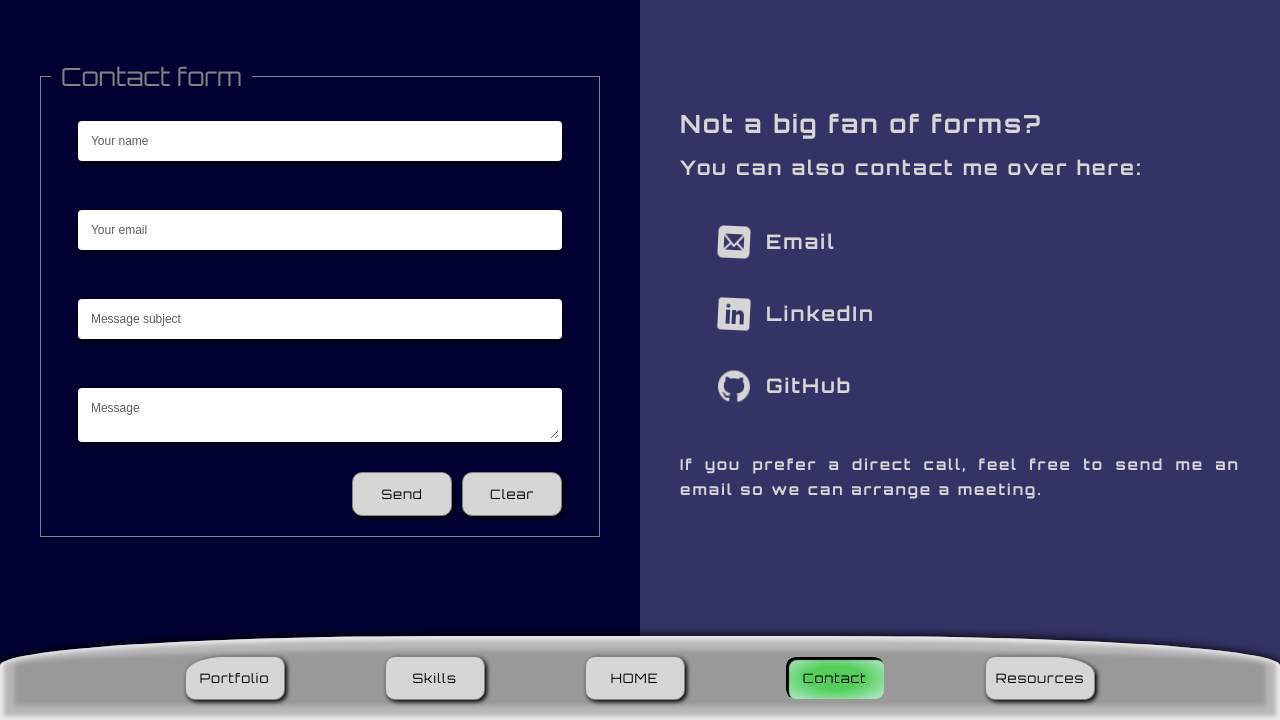
Test: Contact page › can send a contact form
Type "Joaquín" into the field with test id "contact-name-input" at (320, 141), box [78,121,562,161]
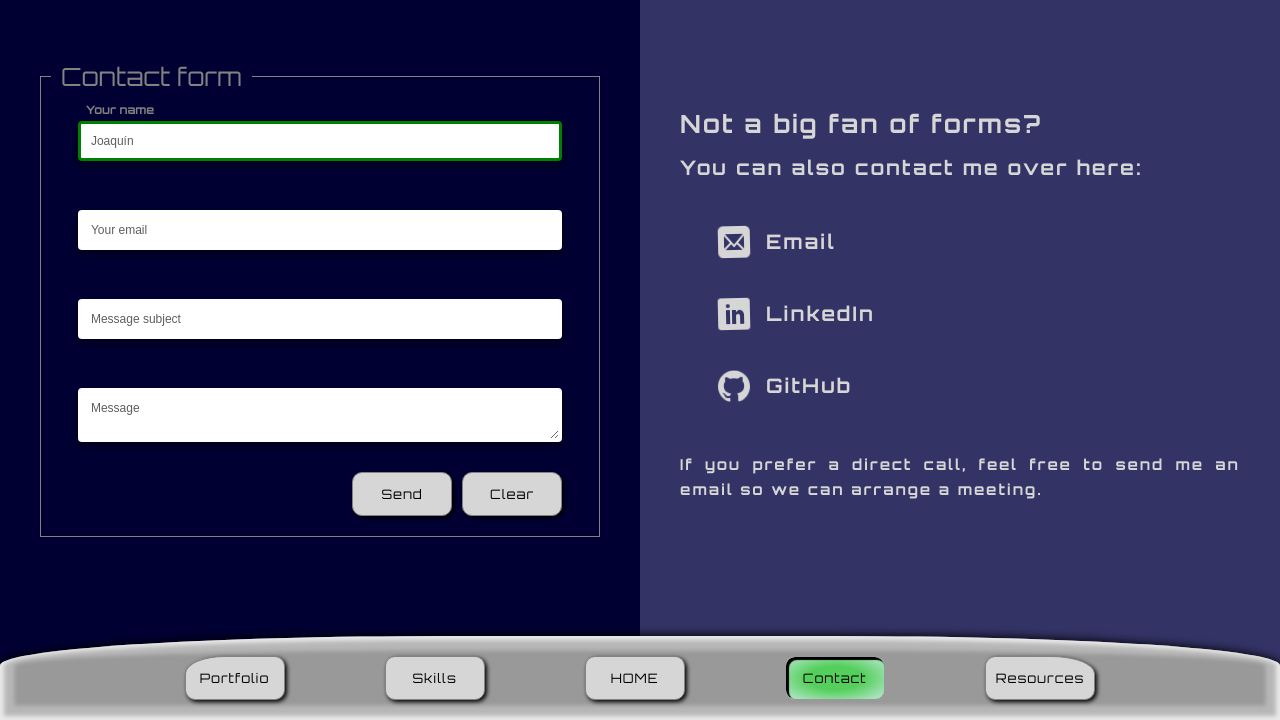
Type "test-email@test.com" into the field with test id "contact-email-input" at (320, 230), box [78,210,562,250]
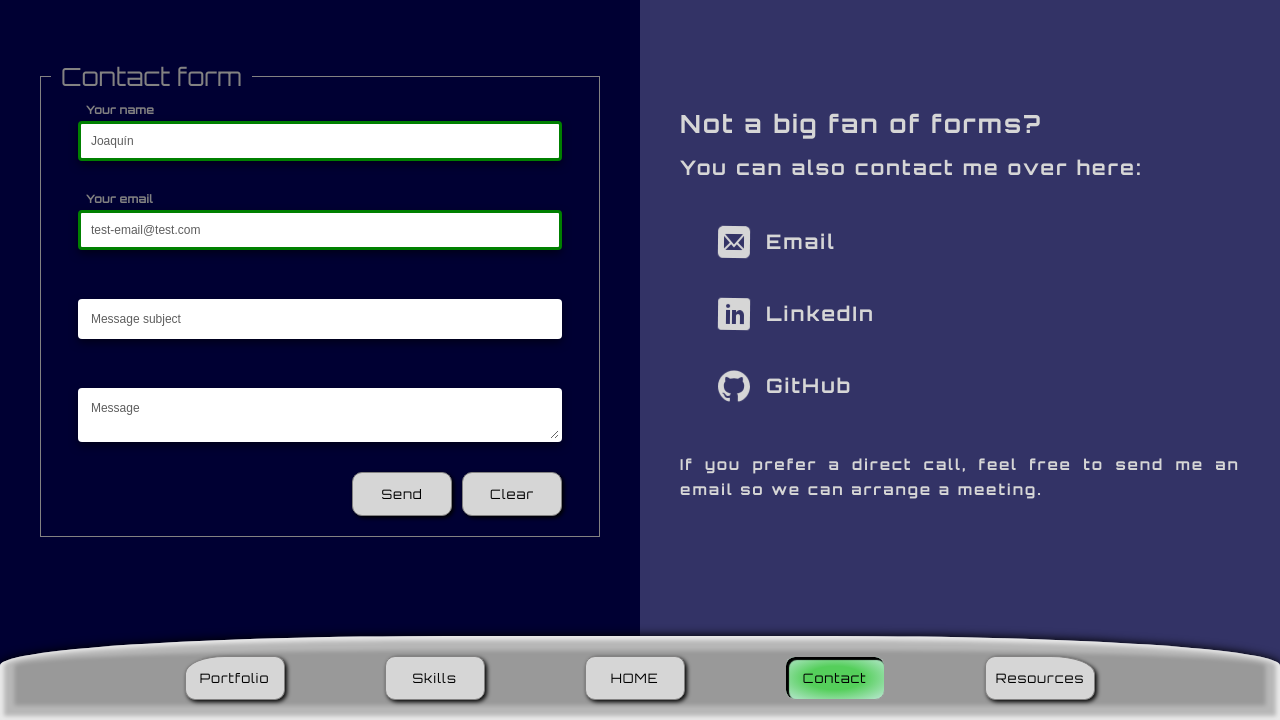
Type "E2E contact form testing" into the field with test id "contact-subject-input" at (320, 319), box [78,299,562,339]
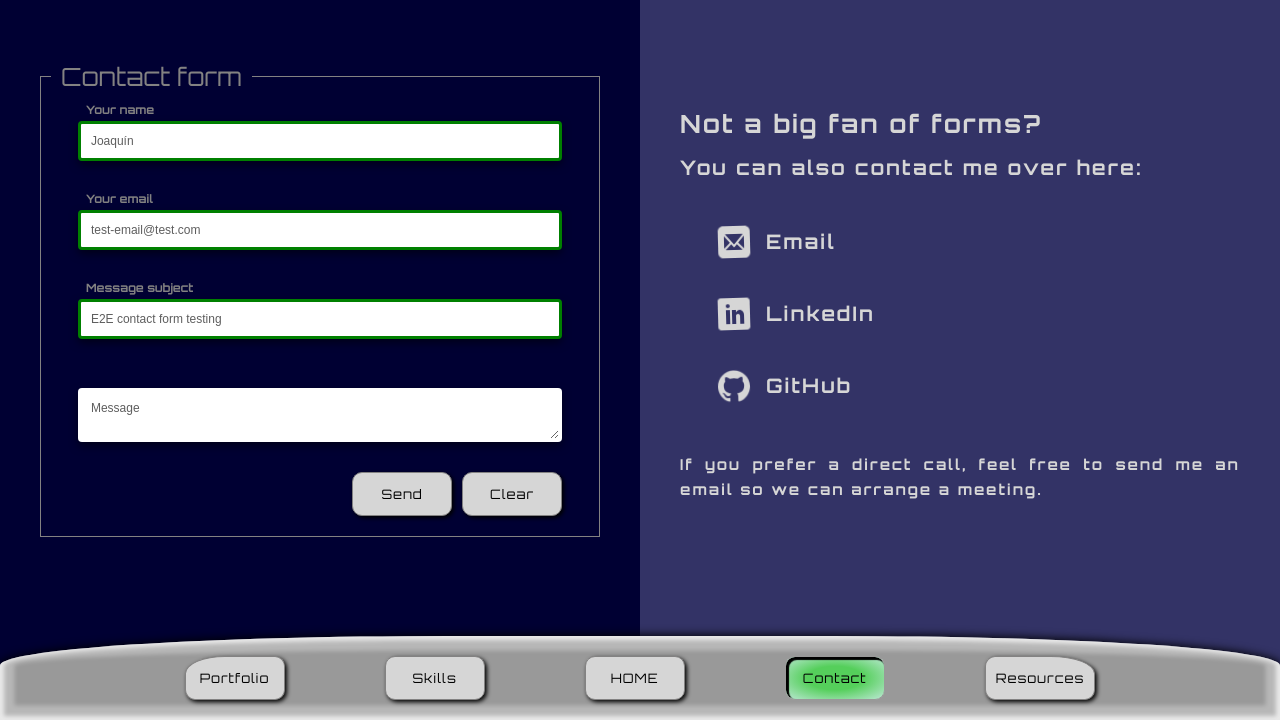
Type "This is a test made with Cypress." into the text box with test id "contact-message-input" at (320, 415), box [78,388,562,442]
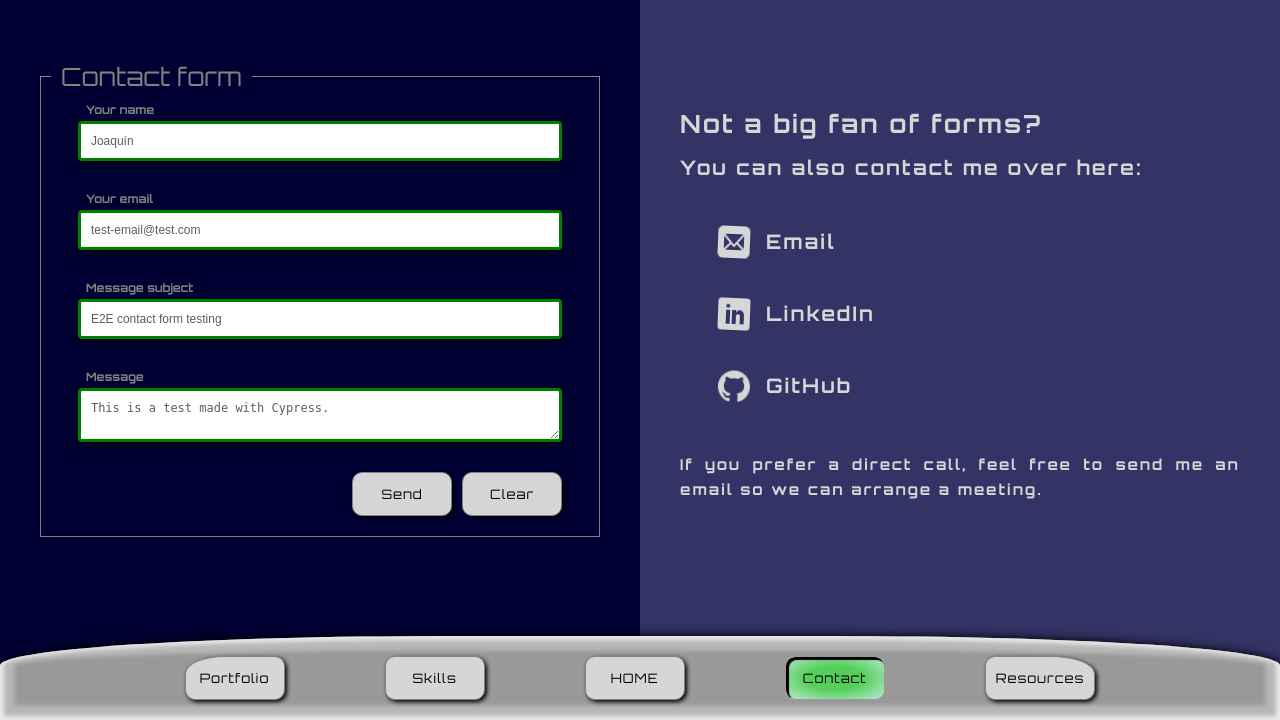
Click the submit button at (402, 494), box [352,472,452,516]
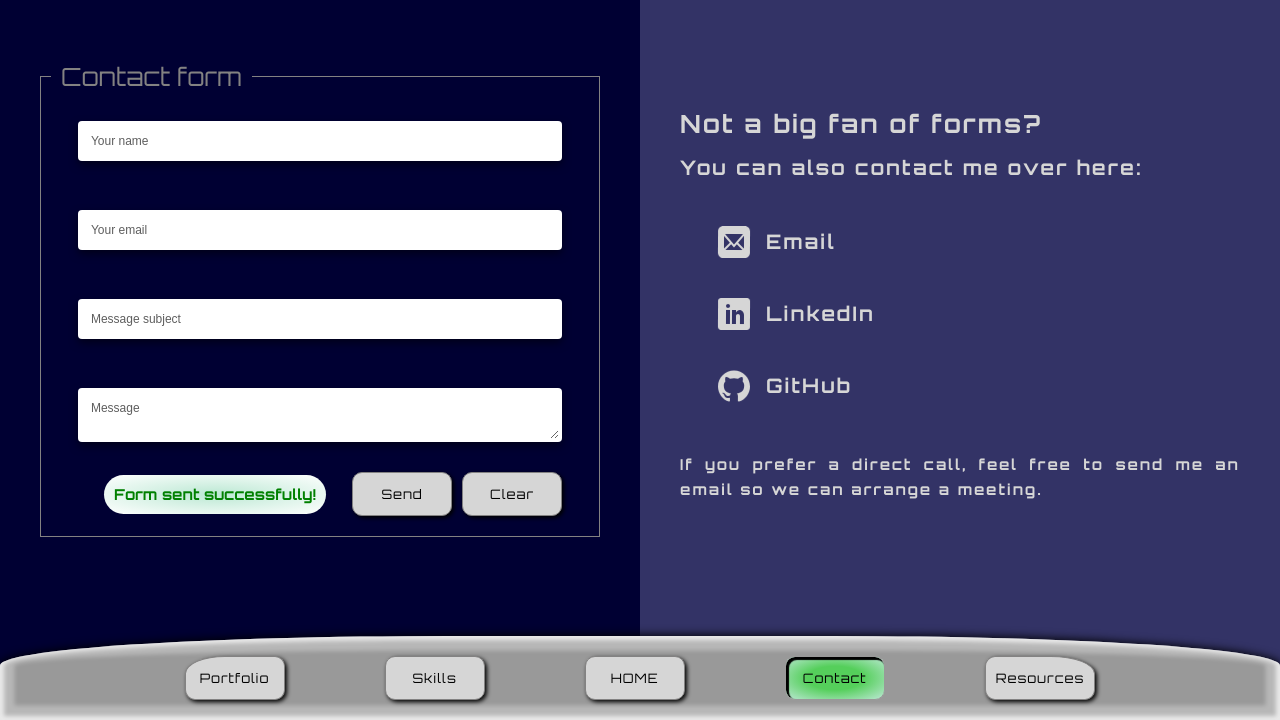
expect the message "Form sent successfully!" is shown: met, box [104,474,326,514]
